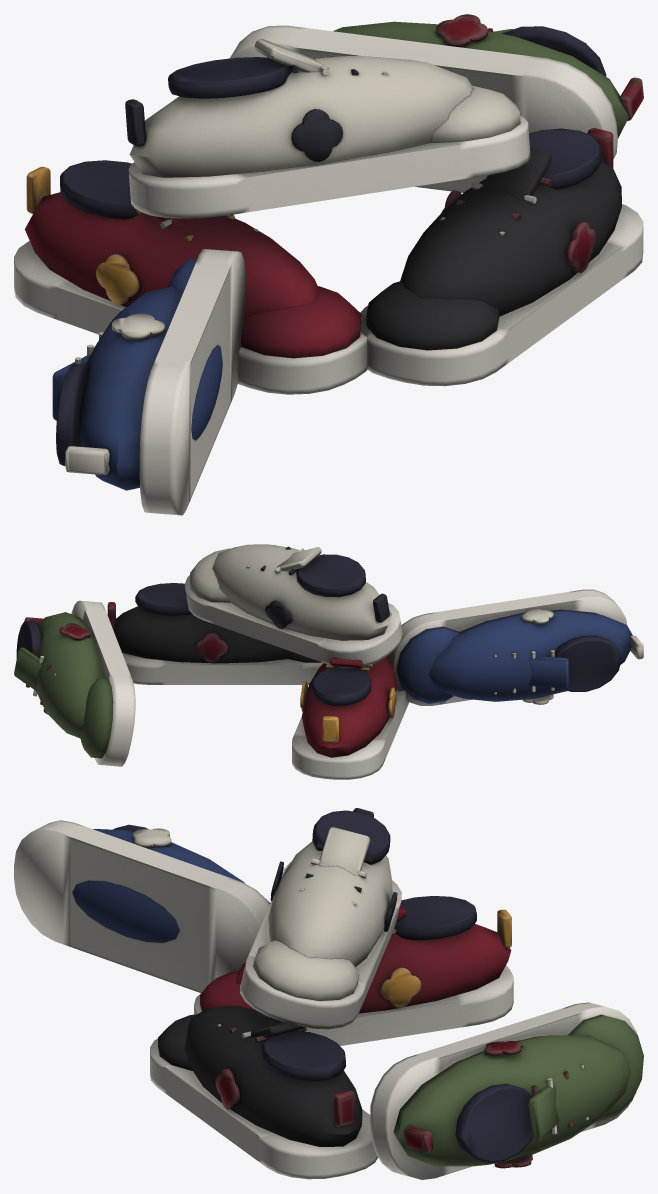
The model's file is SneakerPile.fbx.
The picture shows the model from 3 angles, top to bottom: view 1: azimuth 30°, elevation 25°; view 2: azimuth 150°, elevation 25°; view 3: azimuth 270°, elevation 25°; orthographic projection. The views are drawn at different scales.
Parts seen in each view (by area): view 1: SneakerPile; view 2: SneakerPile; view 3: SneakerPile.
Part boxes in pixels (bbox=[...]): SneakerPile: bbox=[14, 14, 643, 515]; SneakerPile: bbox=[14, 544, 643, 779]; SneakerPile: bbox=[14, 808, 643, 1179].
Size of the model in its own units: 207 by 69.57 by 177.
